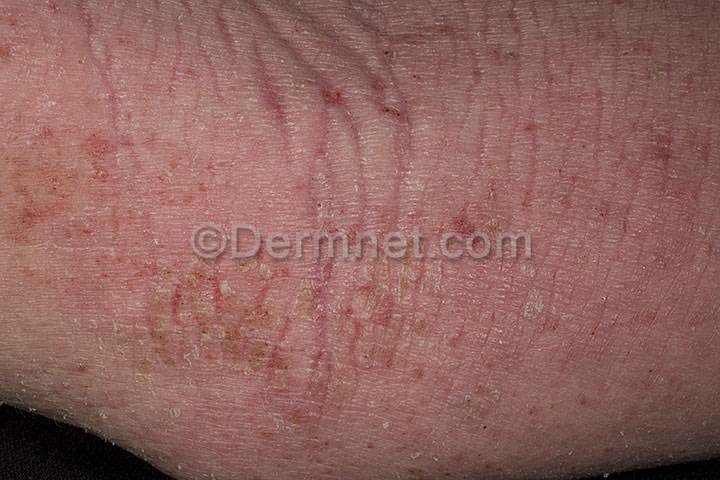Eczema: (3, 3, 708, 455)
